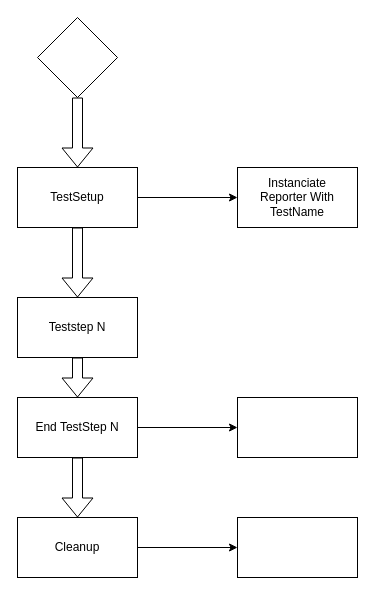
The diagram is 375 pixels wide and 595 high, and some of its shapes have lost their labels. Each missing label, with the centre of its shape:
Add TestStepReport: the point at 297,427
BuildAndSave Report: the point at 297,547
Start Test: the point at 77,57
